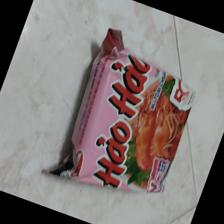Haohao: (43, 29, 195, 194)
